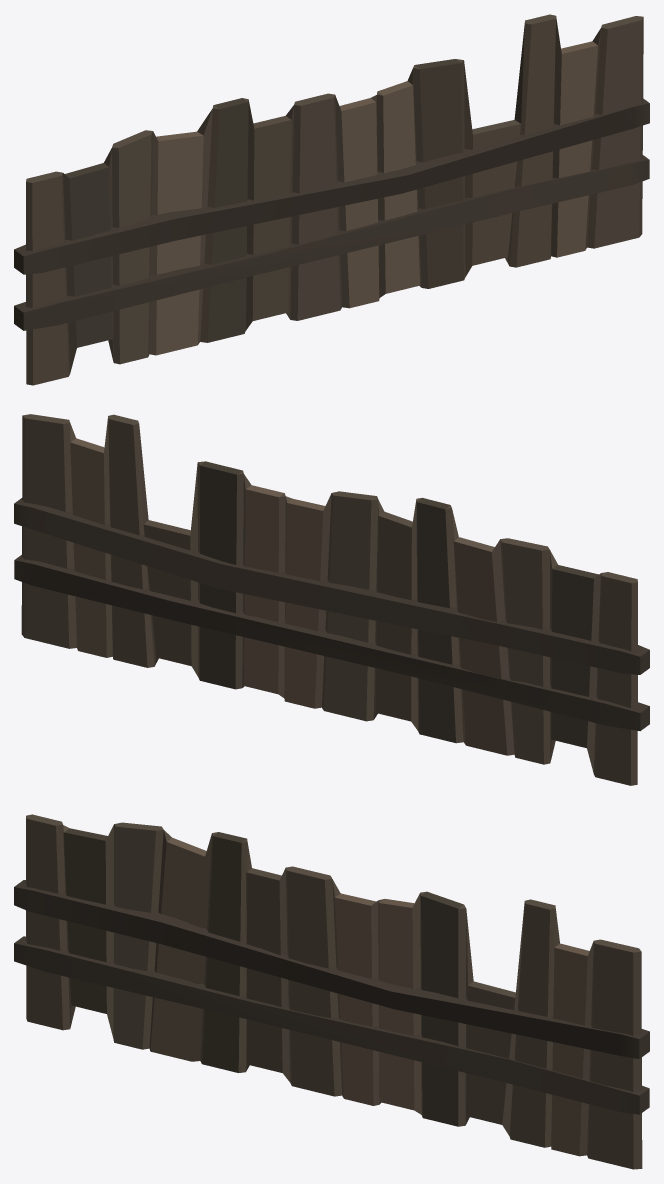
File: SM_Prop_Fence_02.glb
The picture shows the model from 3 angles, top to bottom: view 1: azimuth 30°, elevation 25°; view 2: azimuth 150°, elevation 25°; view 3: azimuth 330°, elevation 25°; orthographic projection.
Visible parts, largest first — view 1: SM_Prop_Fence_02; view 2: SM_Prop_Fence_02; view 3: SM_Prop_Fence_02.
Part boxes in pixels (x1=…): SM_Prop_Fence_02: x1=14, y1=14, x2=649, y2=385; SM_Prop_Fence_02: x1=14, y1=414, x2=649, y2=785; SM_Prop_Fence_02: x1=14, y1=814, x2=649, y2=1169.
Bounding box in the file's own units: 0.0401 × 0.0147 × 0.00224.
